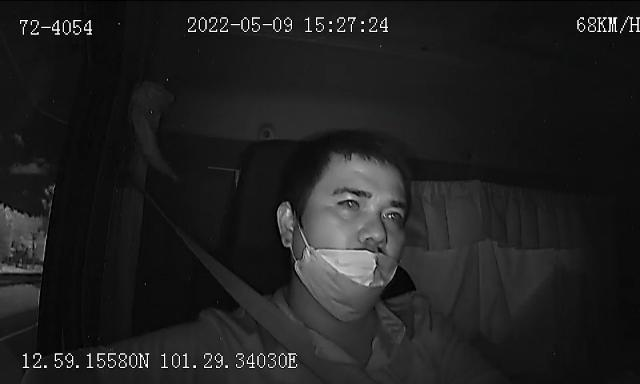SafeDriving: (332, 191, 368, 215), (377, 201, 408, 226)
Seatbelt: (166, 216, 374, 384)
